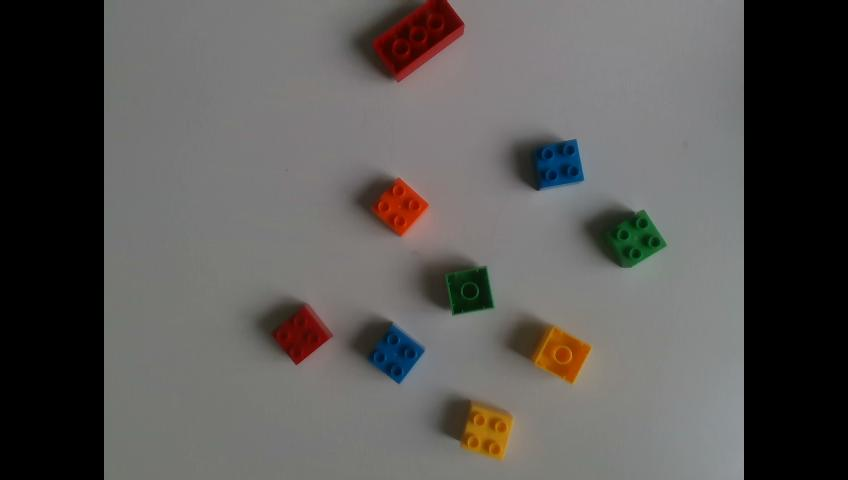2x2_blue: (371, 324, 424, 381), (535, 137, 585, 188)
2x2_green: (606, 207, 667, 266), (447, 266, 494, 314)
2x2_orange: (372, 177, 428, 234)
2x2_red: (269, 300, 336, 363)
2x2_yellow: (531, 324, 590, 380), (460, 404, 512, 459)
4x2_red: (374, 0, 464, 78)
